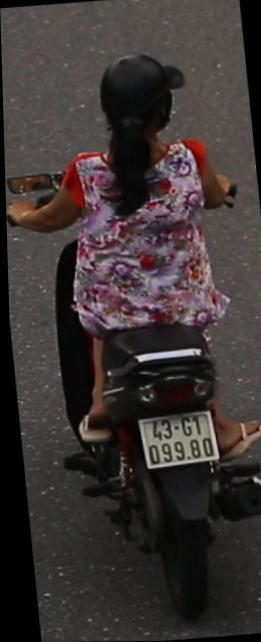LP: (130, 403, 218, 472)
helmet: (91, 43, 195, 145)
